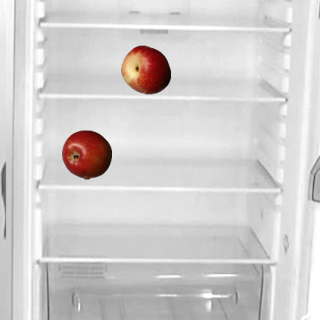Apple Braeburn: (61, 129, 111, 179)
Nectarine: (120, 44, 170, 94)
